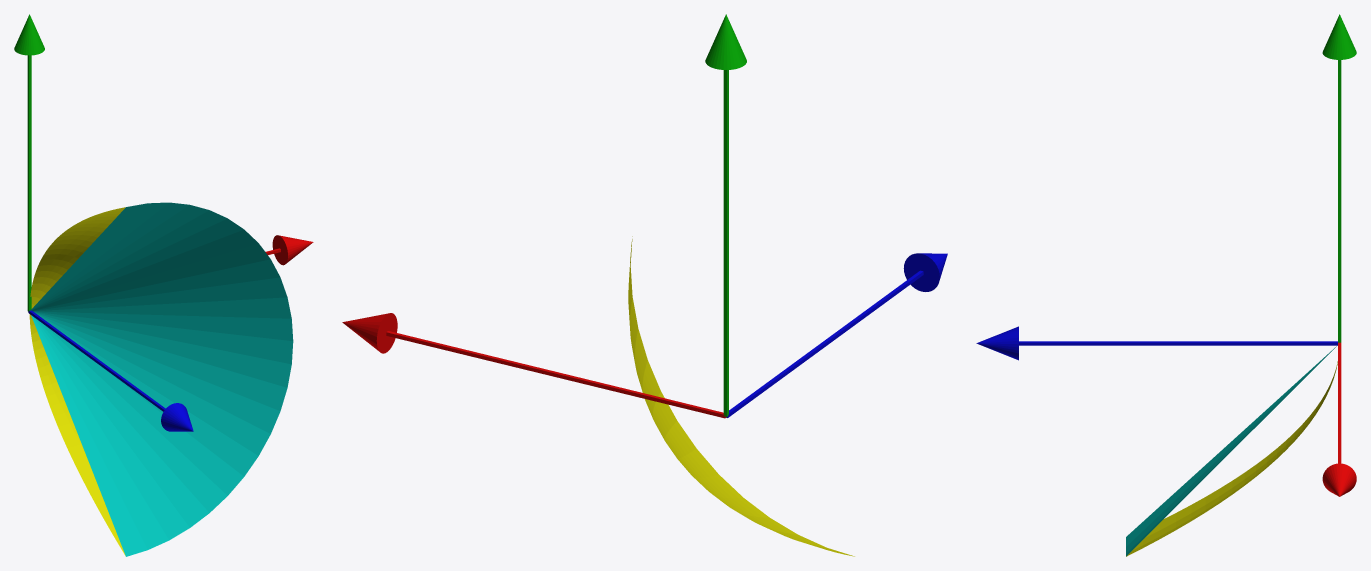
File: Integrales_Triples_Problema_3.glb
The picture shows the model from 3 angles, left to right: view 1: azimuth 30°, elevation 25°; view 2: azimuth 150°, elevation 25°; view 3: azimuth 270°, elevation 25°; orthographic projection. The views are drawn at different scales.
Visible parts, largest first — view 1: world; view 2: world; view 3: world.
Boxes of the visible parts, x1=… form: world: x1=14, y1=14, x2=313, y2=556; world: x1=342, y1=14, x2=947, y2=556; world: x1=976, y1=14, x2=1356, y2=556.
Size of the model in its own units: 1.78 by 2.7 by 1.78.
